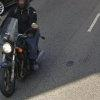Motorcycle: (2, 12, 44, 98)
